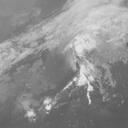cyclone: (62, 28, 106, 80)
